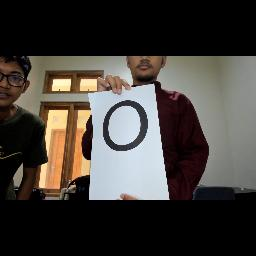o: (100, 98, 150, 154)
